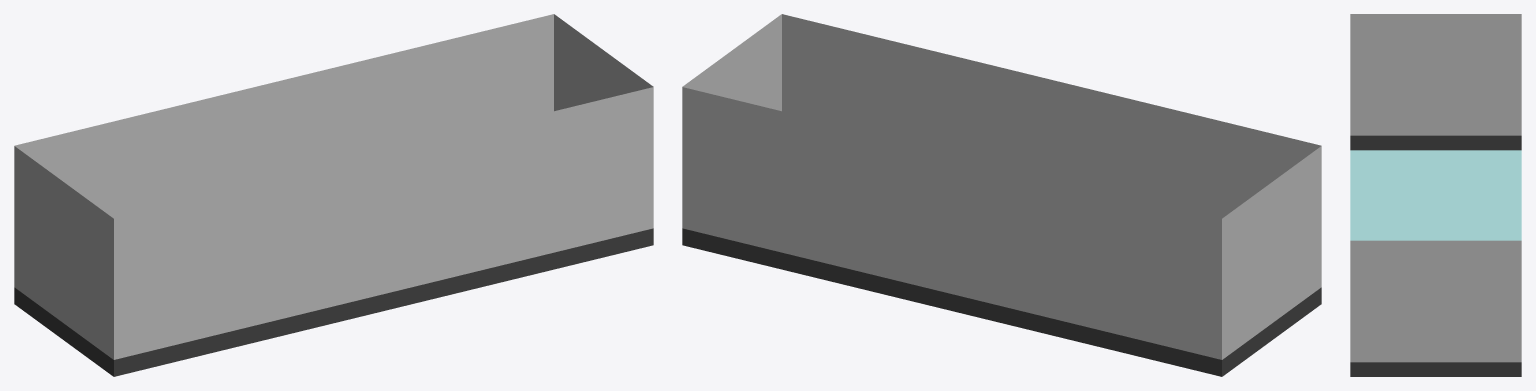
The model's file is room2x6.fbx.
3 renders of one model, left to right at view 1: azimuth 30°, elevation 25°; view 2: azimuth 150°, elevation 25°; view 3: azimuth 270°, elevation 25°, orthographic. The views are drawn at different scales.
Visible parts, largest first — view 1: room2x6; view 2: room2x6; view 3: room2x6.
Boxes of the visible parts, <box> form: room2x6: <box>14,14,653,376</box>; room2x6: <box>682,14,1321,376</box>; room2x6: <box>1350,14,1521,376</box>.
Size of the model in its own units: 1200 by 336 by 384.
